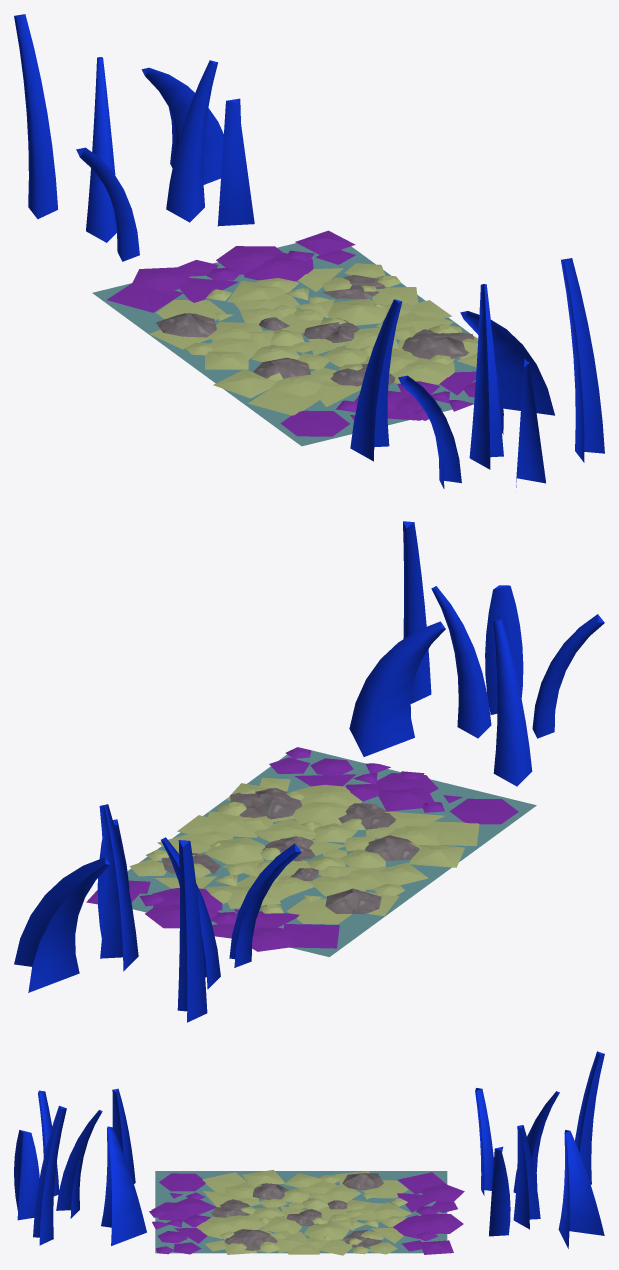
Rendered from TerrainPiece01.FBX.
3 views of the same model, one above another, from view 1: azimuth 30°, elevation 25°; view 2: azimuth 150°, elevation 25°; view 3: azimuth 270°, elevation 25° (orthographic). The views are drawn at different scales.
Visible parts, largest first — view 1: pillars, Cone001, Cone079, base plane, rock006; view 2: pillars, Cone001, Cone079, base plane, rock006; view 3: pillars, Cone001, Cone079, base plane, rock006.
Boxes of the visible parts, x1=… form: pillars: x1=14, y1=14, x2=604, y2=488; Cone001: x1=149, y1=263, x2=478, y2=415; Cone079: x1=107, y1=230, x2=476, y2=436; base plane: x1=92, y1=243, x2=476, y2=446; rock006: x1=156, y1=275, x2=474, y2=386; pillars: x1=14, y1=521, x2=604, y2=1022; Cone001: x1=129, y1=778, x2=479, y2=924; Cone079: x1=86, y1=747, x2=518, y2=951; base plane: x1=127, y1=747, x2=536, y2=957; rock006: x1=161, y1=788, x2=419, y2=914; pillars: x1=14, y1=1051, x2=604, y2=1248; Cone001: x1=196, y1=1169, x2=411, y2=1255; Cone079: x1=149, y1=1172, x2=464, y2=1254; base plane: x1=155, y1=1171, x2=447, y2=1253; rock006: x1=211, y1=1173, x2=383, y2=1250.
Bounding box in the file's own units: 41.81 × 30.08 × 121.
